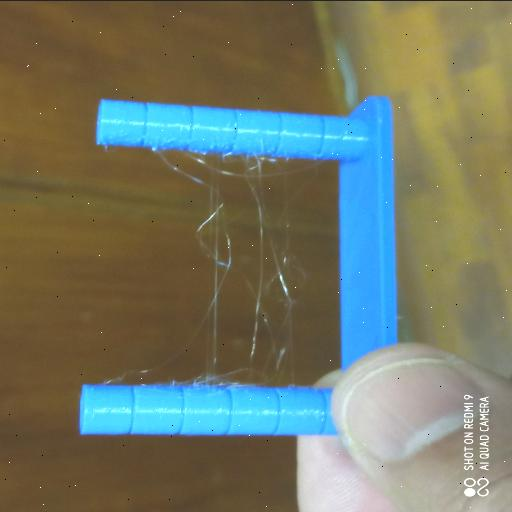stringing: (168, 152, 306, 386)
